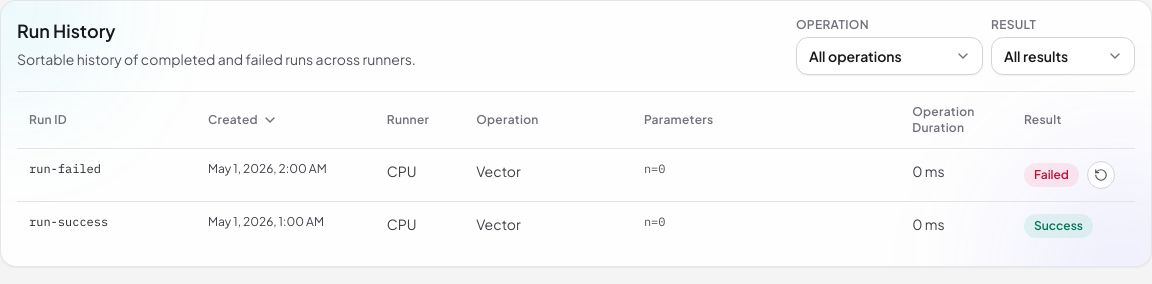
Test case: RunHistoryView › filters rows by result
The image size is (1152, 284).
Select "Failed" in the dropdown labelled "Result" at (1063, 56), box [991,37,1135,75]
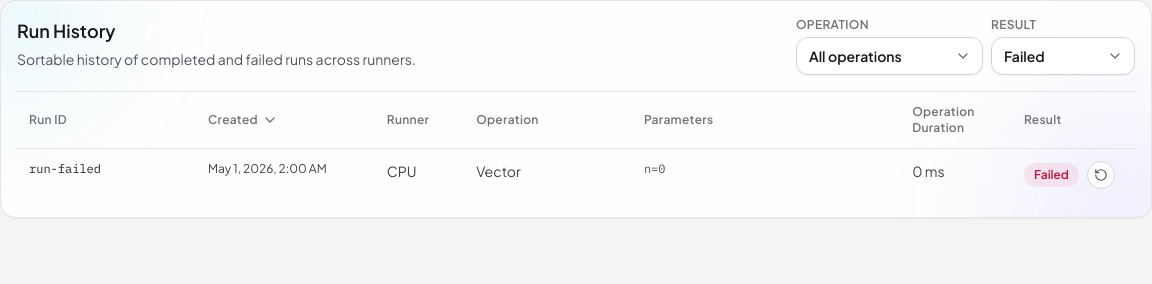
Expected: the button "run-failed" is shown, [29,161,101,177]
Now the button "run-success" is gone
